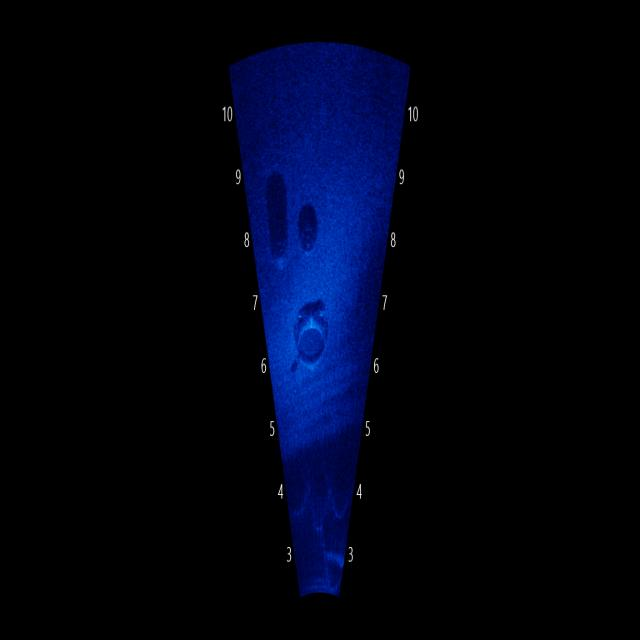circle: (292, 296, 332, 388), (294, 192, 331, 258), (269, 216, 294, 288)
